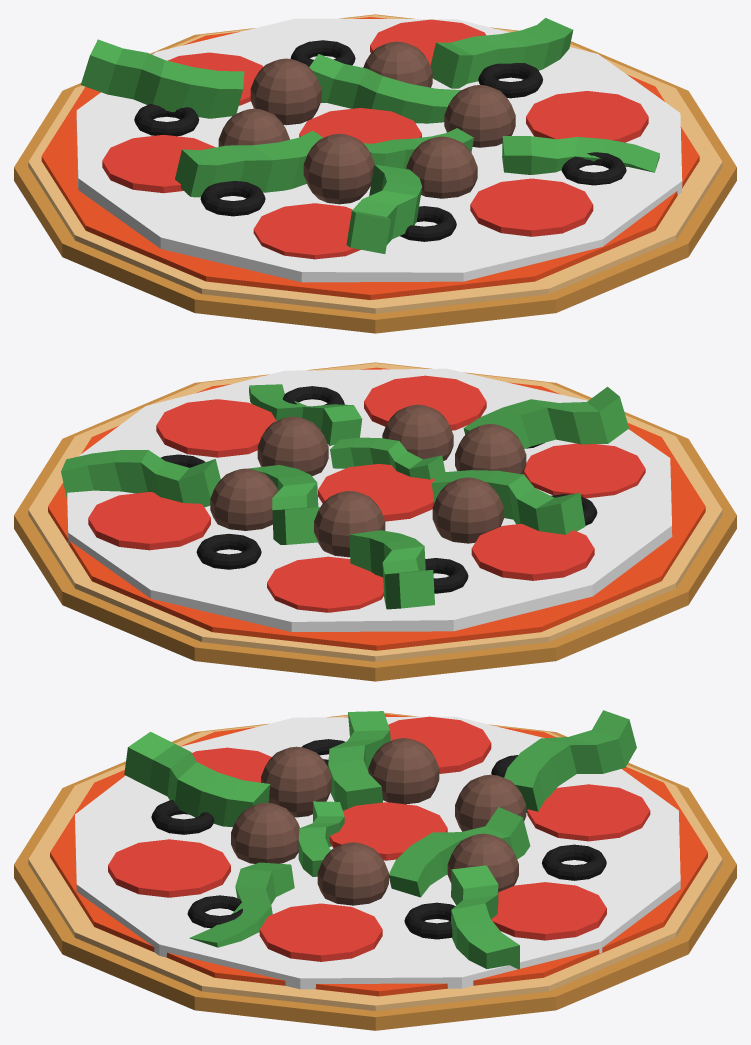
File: FullPizzaPoly.fbx
3 renders of one model, top to bottom at view 1: azimuth 30°, elevation 25°; view 2: azimuth 150°, elevation 25°; view 3: azimuth 270°, elevation 25°, orthographic.
Parts seen in each view (by area): view 1: mesh_60956185, mesh_13992555, mesh_1051877250, mesh_1309335234, group_2073463504, group_1800032711, mesh_65050131, group_565404572, group_274291298, mesh_1240131638, mesh_1908690590, group_1475154722 (+18 smaller); view 2: mesh_60956185, mesh_13992555, mesh_1051877250, mesh_1309335234, group_565404572, group_1475154722, mesh_1920391555, mesh_1240131638, mesh_273593077, mesh_1908690590, mesh_1299724127, group_2073463504 (+15 smaller); view 3: mesh_60956185, mesh_13992555, mesh_1051877250, mesh_1309335234, group_1475154722, group_2073463504, mesh_1240131638, mesh_65050131, mesh_1920391555, mesh_1299724127, group_565404572, group_274291298 (+16 smaller).
Boxes of the visible parts, <box> form: mesh_60956185: <box>76,18,682,282</box>; mesh_13992555: <box>14,14,736,333</box>; mesh_1051877250: <box>28,15,722,313</box>; mesh_1309335234: <box>41,17,699,299</box>; group_2073463504: <box>80,39,244,118</box>; group_1800032711: <box>175,130,323,197</box>; mesh_65050131: <box>470,178,593,236</box>; group_565404572: <box>430,18,573,88</box>; group_274291298: <box>309,54,461,123</box>; mesh_1240131638: <box>526,91,648,142</box>; mesh_1908690590: <box>253,203,360,259</box>; group_1475154722: <box>346,164,422,253</box>; mesh_60956185: <box>67,368,672,631</box>; mesh_13992555: <box>14,362,736,681</box>; mesh_1051877250: <box>28,363,722,661</box>; mesh_1309335234: <box>48,367,705,650</box>; group_565404572: <box>61,450,220,507</box>; group_1475154722: <box>463,386,628,449</box>; mesh_1920391555: <box>88,492,210,550</box>; mesh_1240131638: <box>156,399,276,457</box>; mesh_273593077: <box>471,523,594,580</box>; mesh_1908690590: <box>523,443,645,498</box>; mesh_1299724127: <box>267,556,383,612</box>; group_2073463504: <box>349,530,434,609</box>; mesh_60956185: <box>75,716,680,989</box>; mesh_13992555: <box>14,712,736,1030</box>; mesh_1051877250: <box>28,713,722,1010</box>; mesh_1309335234: <box>50,714,707,996</box>; group_1475154722: <box>124,731,270,827</box>; group_2073463504: <box>504,710,636,812</box>; mesh_1240131638: <box>259,903,382,961</box>; mesh_65050131: <box>108,839,230,897</box>; mesh_1920391555: <box>491,882,606,940</box>; mesh_1299724127: <box>527,784,650,841</box>; group_565404572: <box>451,865,519,969</box>; group_274291298: <box>389,807,530,897</box>.
Bounding box in the file's own units: 100 × 14.08 × 100.
